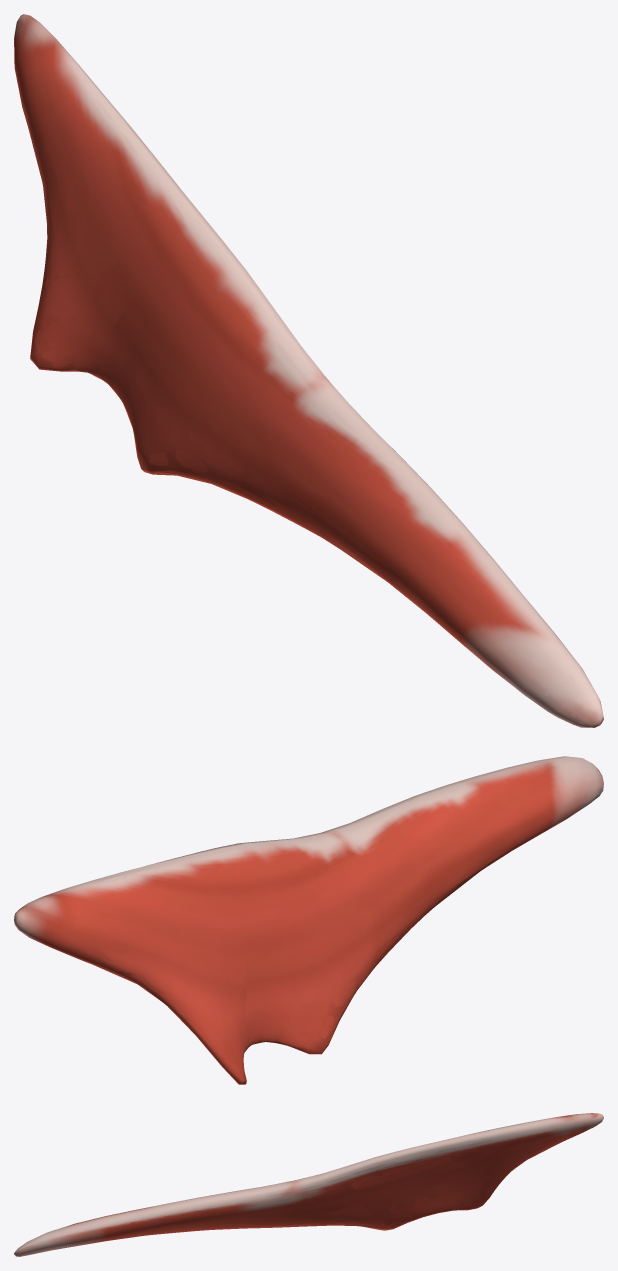
Rendered from R rhomboideus.fbx.
3 renders of one model, top to bottom at view 1: azimuth 30°, elevation 25°; view 2: azimuth 150°, elevation 25°; view 3: azimuth 270°, elevation 25°, orthographic. The views are drawn at different scales.
Parts seen in each view (by area): view 1: R rhomboideus, R rhomboideus high, R rhomboideus low; view 2: R rhomboideus, R rhomboideus high, R rhomboideus low; view 3: R rhomboideus, R rhomboideus low, R rhomboideus high.
Boxes of the visible parts, <box> form: R rhomboideus: <box>14,14,603,727</box>; R rhomboideus high: <box>16,19,601,721</box>; R rhomboideus low: <box>27,116,448,631</box>; R rhomboideus: <box>14,756,603,1084</box>; R rhomboideus high: <box>16,757,602,1072</box>; R rhomboideus low: <box>93,835,532,1059</box>; R rhomboideus: <box>14,1113,603,1256</box>; R rhomboideus low: <box>37,1136,569,1252</box>; R rhomboideus high: <box>14,1113,598,1255</box>.
Bounding box in the file's own units: 4.08 × 9.48 × 34.75.
Materials: 1 (1 with a texture image).
